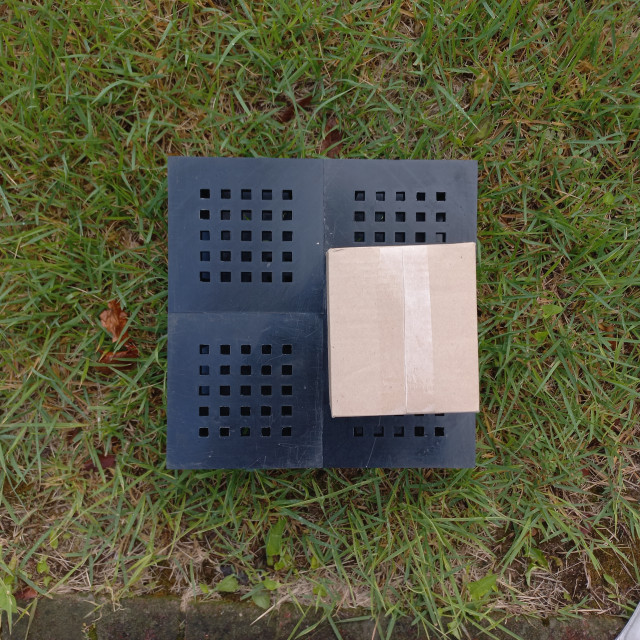box: (161, 224, 315, 401)
pallet: (155, 168, 475, 484)
